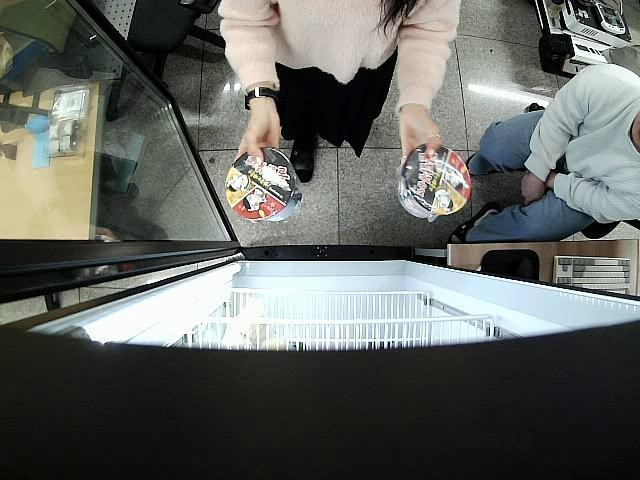07_buldak_L: (223, 146, 304, 224), (398, 143, 472, 221)
